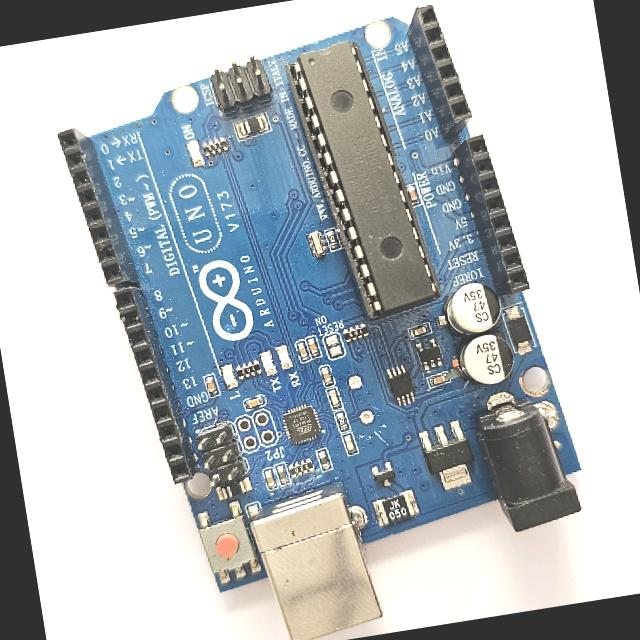missing_crystal_os: (327, 349, 398, 453)
